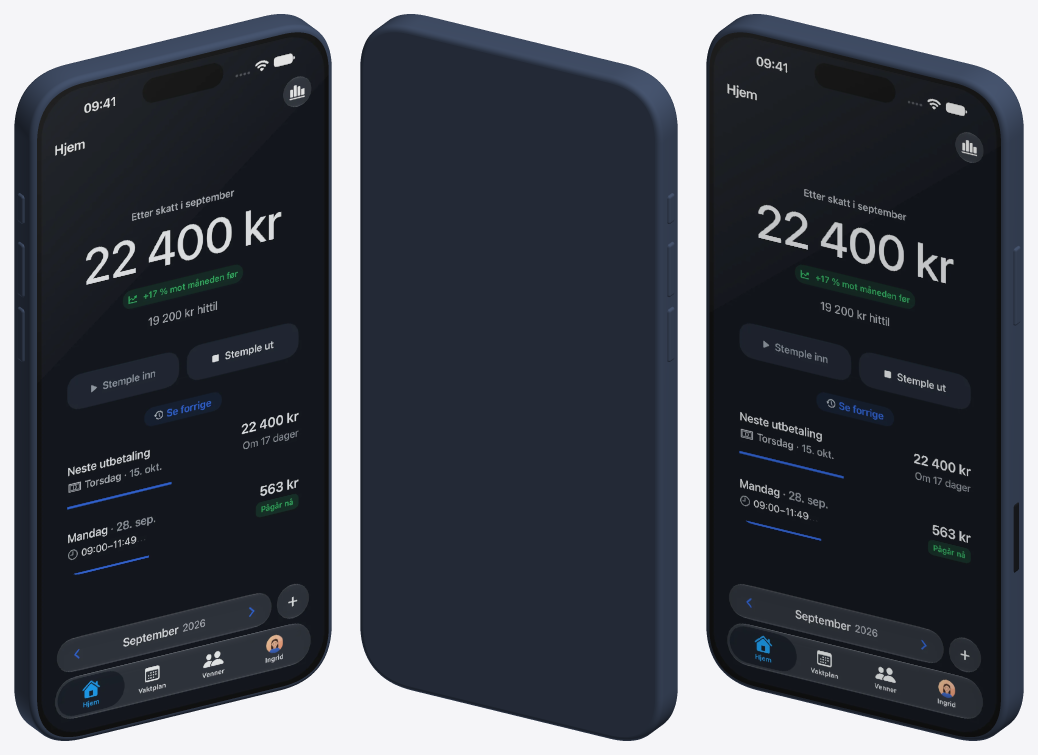
File: phone.glb
The picture shows the model from 3 angles, left to right: view 1: azimuth 30°, elevation 25°; view 2: azimuth 150°, elevation 25°; view 3: azimuth 330°, elevation 25°; orthographic projection.
Parts seen in each view (by area): view 1: phone glass, phone frame; view 2: phone frame; view 3: phone glass, phone frame, phone button.003.
Boxes of the visible parts, x1,y1,x2,y2 form: phone glass: (37,32,328,736); phone frame: (14,14,331,740); phone frame: (360,14,677,740); phone glass: (709,32,1000,736); phone frame: (706,14,1023,740); phone button.003: (1013,246,1020,325).
Size of the model in its own units: 0.0792 by 0.1634 by 0.0088.
3 materials, 1 textured.
